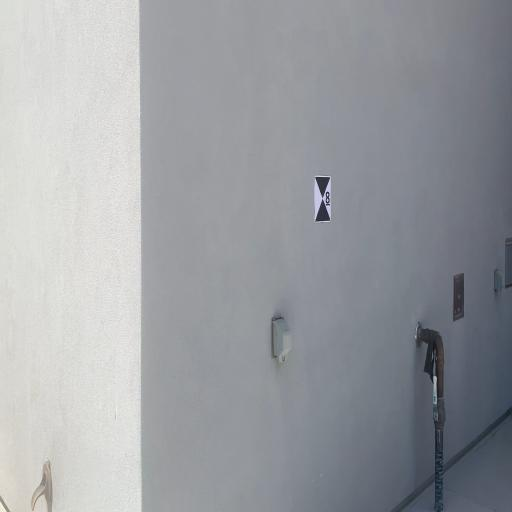target8: (314, 176, 332, 221)
